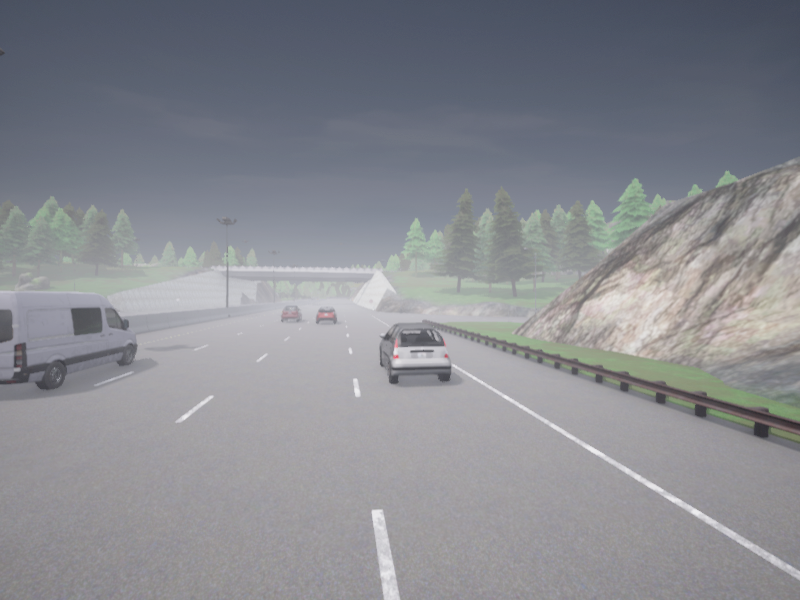vehicle: (0, 291, 137, 389), (379, 323, 451, 383), (316, 307, 337, 323), (281, 306, 301, 321)
